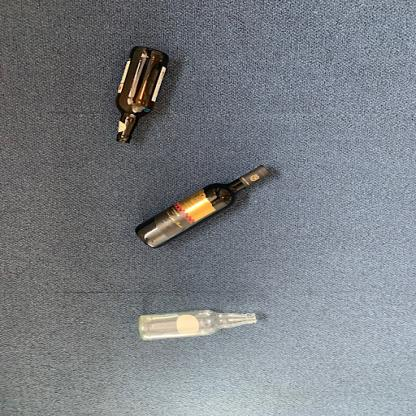trash: (132, 164, 270, 250), (111, 44, 168, 145), (134, 305, 261, 342)
